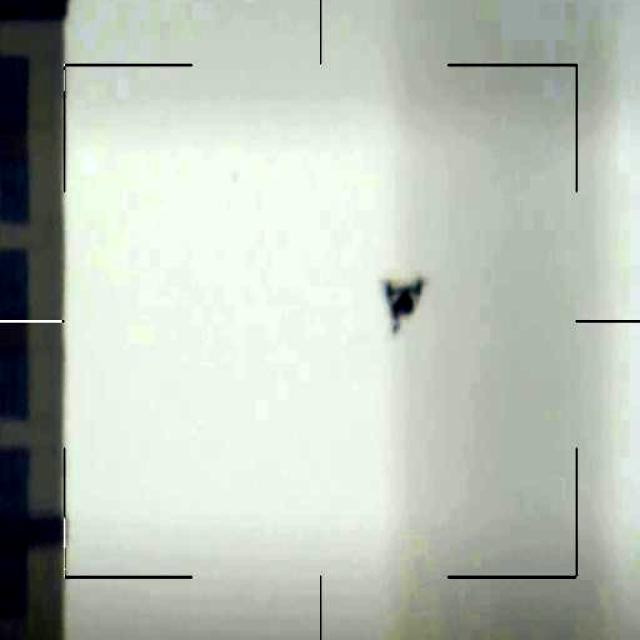bird: (375, 268, 432, 345)
